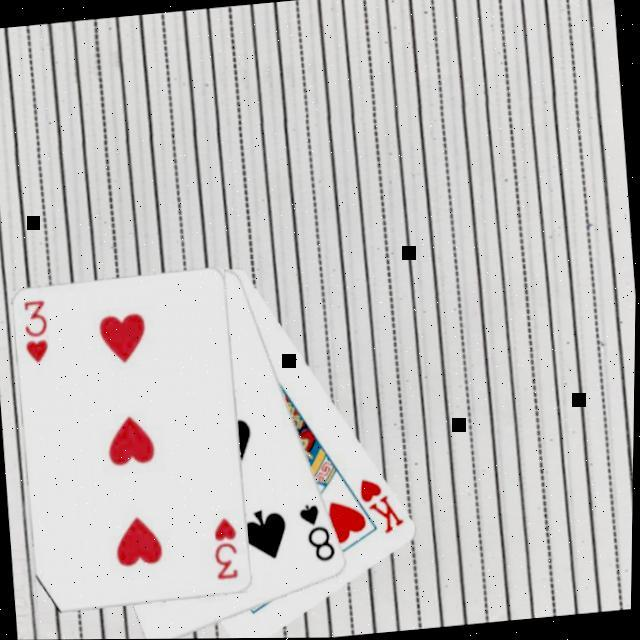3H: (20, 294, 58, 364), (210, 512, 247, 581)
8S: (296, 496, 344, 564)
KH: (358, 469, 412, 536)
